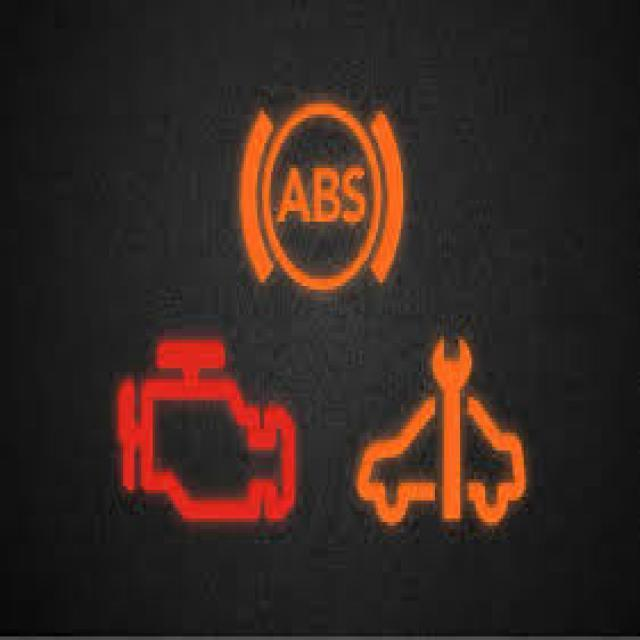ABS: (236, 94, 407, 290)
EngineWarning: (110, 336, 302, 536)
